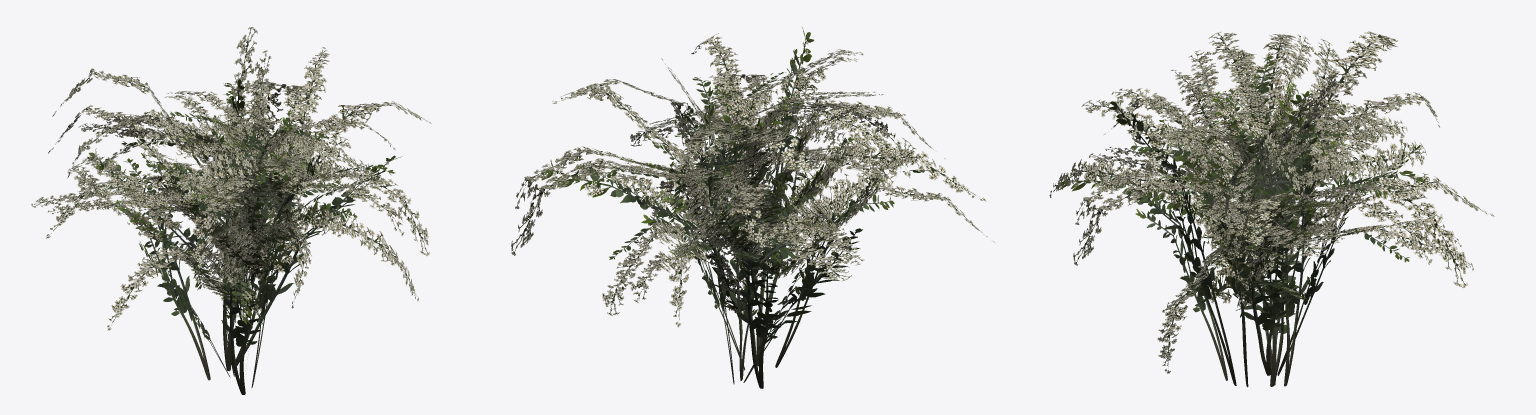
Rendered from bg_anh_foliage_briwreath03_sm_ksy.FBX.
3 views of the same model, side by side, from view 1: azimuth 30°, elevation 25°; view 2: azimuth 150°, elevation 25°; view 3: azimuth 270°, elevation 25° (orthographic). The views are drawn at different scales.
Parts seen in each view (by area): view 1: bg_anh_foliage_briwreath03_sm_ksy; view 2: bg_anh_foliage_briwreath03_sm_ksy; view 3: bg_anh_foliage_briwreath03_sm_ksy.
Part boxes in pixels (bbox=[...]): bg_anh_foliage_briwreath03_sm_ksy: bbox=[31, 27, 431, 394]; bg_anh_foliage_briwreath03_sm_ksy: bbox=[511, 27, 994, 388]; bg_anh_foliage_briwreath03_sm_ksy: bbox=[1049, 31, 1494, 387].
Bounding box in the file's own units: 242 × 179 × 220.
